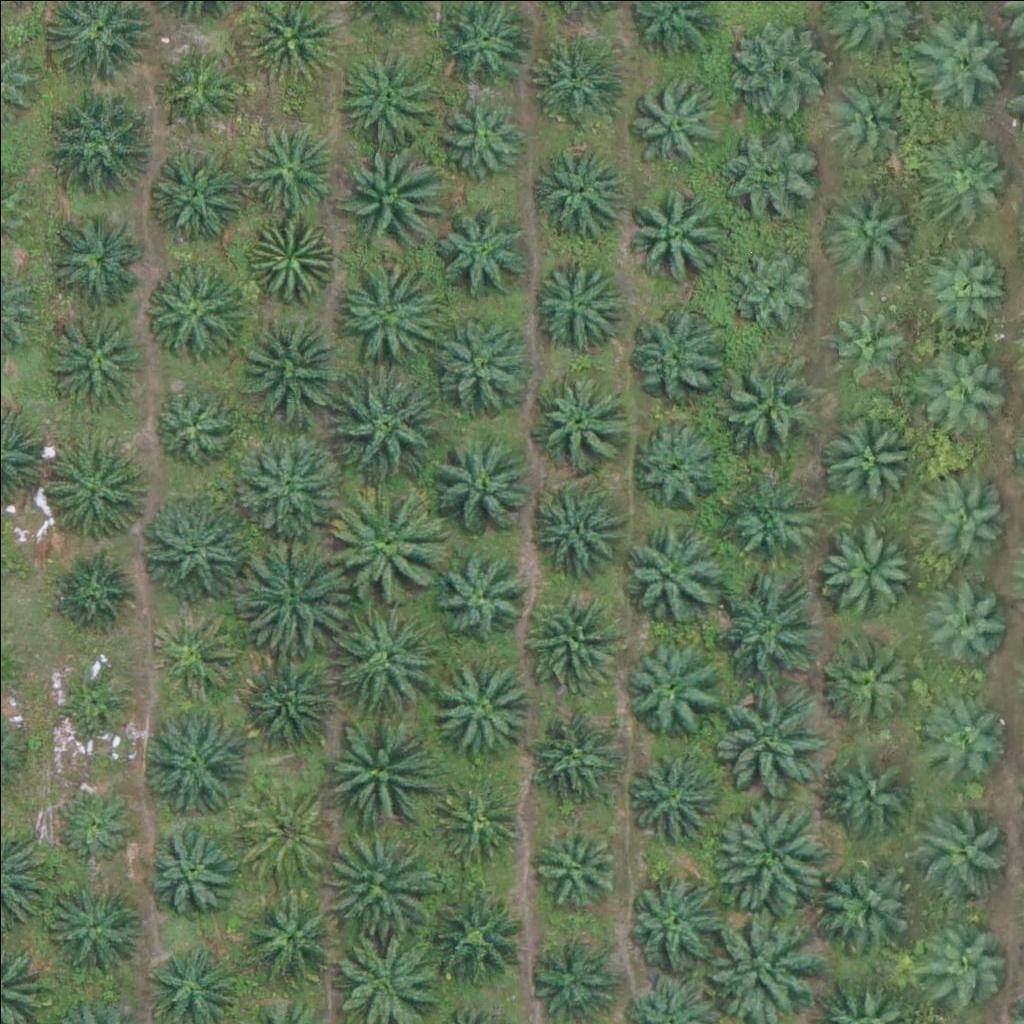Kelapa_Sawit: (332, 597, 445, 711), (323, 825, 436, 939), (327, 251, 440, 364), (328, 367, 441, 480), (715, 798, 828, 911), (228, 429, 340, 543), (322, 722, 434, 836), (715, 571, 827, 684), (329, 37, 441, 150), (334, 147, 446, 260), (331, 484, 443, 597), (241, 536, 353, 649), (236, 315, 348, 428), (138, 495, 250, 608), (47, 84, 159, 197), (139, 705, 251, 818), (709, 682, 821, 795), (815, 846, 927, 959), (913, 338, 1013, 439), (818, 404, 918, 505), (816, 523, 916, 624), (820, 632, 920, 733), (721, 471, 821, 572), (718, 360, 818, 461), (719, 122, 819, 223), (721, 18, 821, 119), (624, 637, 724, 738), (618, 183, 718, 284), (625, 68, 725, 169), (528, 140, 628, 241), (526, 369, 626, 470), (525, 593, 625, 694), (428, 542, 528, 643), (430, 432, 530, 533), (435, 196, 535, 297), (143, 141, 243, 242), (144, 265, 244, 366), (42, 301, 142, 402), (44, 210, 144, 311), (44, 877, 144, 978), (142, 818, 242, 919), (239, 890, 339, 991), (523, 705, 623, 806), (624, 872, 724, 973), (626, 746, 726, 847), (914, 798, 1014, 899), (908, 909, 1008, 1010), (912, 13, 1012, 113), (619, 519, 719, 619), (628, 302, 728, 402), (520, 30, 620, 130), (525, 254, 625, 354), (518, 483, 618, 583), (434, 652, 534, 752), (431, 315, 531, 415), (238, 648, 338, 748), (45, 440, 145, 540), (233, 782, 333, 882), (422, 886, 522, 986), (920, 575, 1008, 663), (920, 468, 1008, 556), (923, 235, 1011, 323), (821, 191, 909, 279), (726, 241, 814, 329), (243, 128, 331, 216), (149, 53, 237, 141), (51, 777, 139, 865), (435, 779, 523, 867), (533, 817, 621, 905), (825, 750, 913, 838), (828, 297, 915, 386), (149, 612, 236, 700), (925, 128, 1012, 216), (827, 70, 914, 158), (632, 420, 719, 508), (438, 95, 525, 183), (246, 220, 333, 308), (145, 378, 232, 466), (50, 548, 137, 636), (928, 686, 1015, 774), (52, 655, 127, 730)
